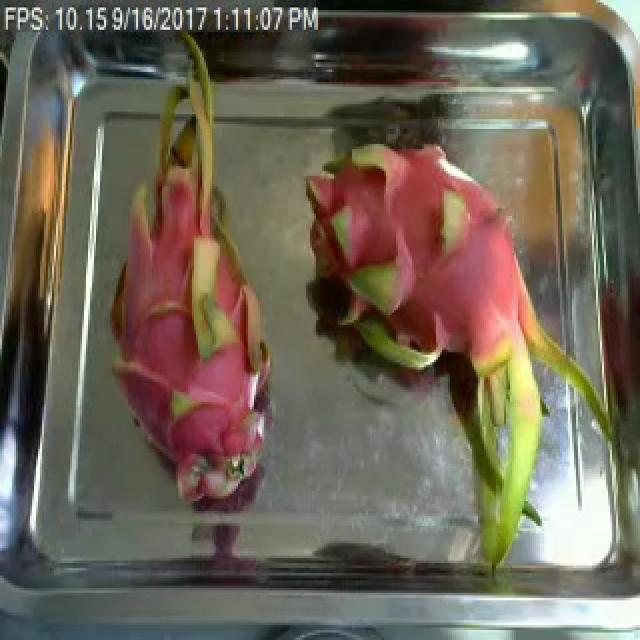Fruit: (430, 340, 486, 454)
